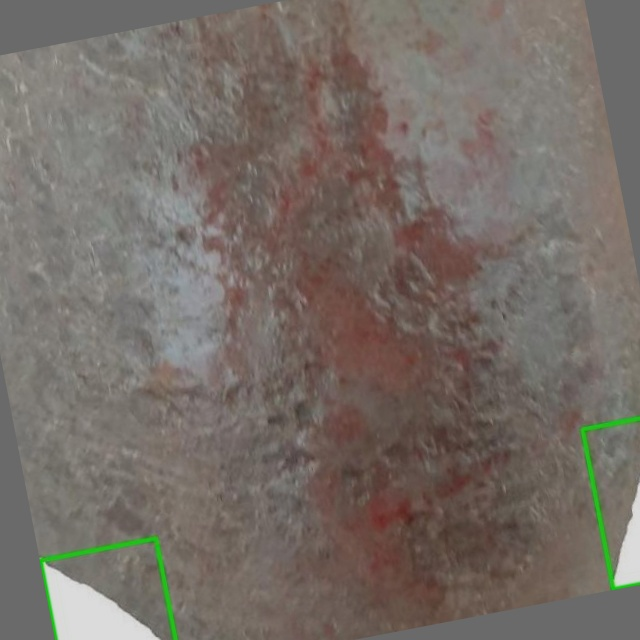Contact Dermatitis: (40, 538, 176, 639)
